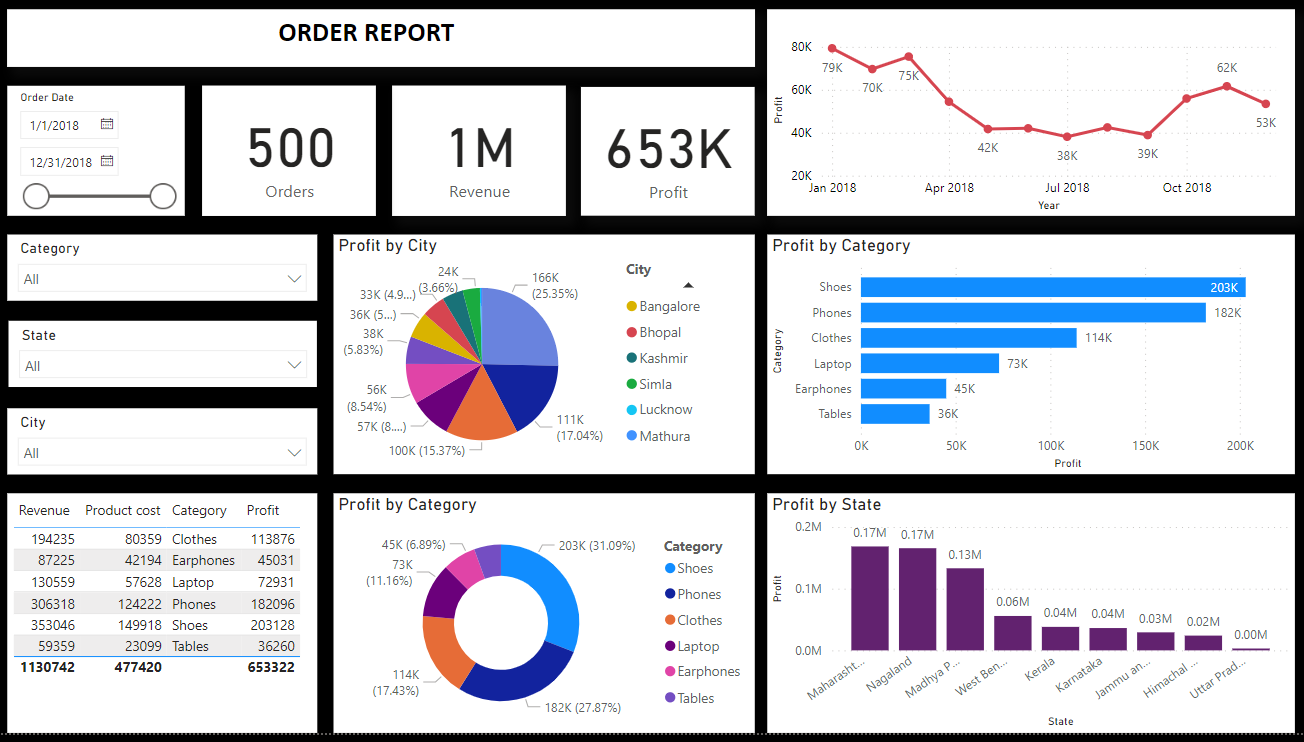

The page's visual inventory and layout, read from the dashboard file:
{"tool":"powerbi","page":{"name":"Page 1","canvas":[1280,720],"ordinal":0},"visuals":[{"type":"textbox","box":[11,12.3,731.4,56.3],"z":0},{"type":"card","fields":{"Values":["Sum(Orders.order_total)"]},"box":[387.5,86.8,169.9,127.1],"z":1},{"type":"card","fields":{"Values":["Sum(Orders.Profit)"]},"box":[572.1,88,169.9,125.9],"z":2},{"type":"card","fields":{"Values":["CountNonNull(Orders.Order ID)"]},"box":[201.7,86.8,169.9,127.1],"z":3},{"type":"lineChart","fields":{"Category":["Orders.Order Date.Variation.Date Hierarchy.Year","Orders.Order Date.Variation.Date Hierarchy.Month"],"Y":["Sum(Orders.Profit)"]},"box":[754.7,12.3,516,201.7],"z":4},{"type":"clusteredBarChart","fields":{"Category":["Orders.Category"],"Y":["Sum(Orders.Profit)"]},"box":[754.7,231.9,516,234.6],"z":5},{"type":"columnChart","fields":{"Category":["Orders.State"],"Y":["Sum(Orders.Profit)"]},"box":[754.7,485.8,516,234.6],"z":6},{"type":"pieChart","fields":{"Y":["Sum(Orders.Profit)"],"Category":["Orders.City"]},"box":[330.1,232.3,412,234.7],"z":7},{"type":"donutChart","fields":{"Y":["Sum(Orders.Profit)"],"Category":["Orders.Category"]},"box":[330.1,485.3,412,234.7],"z":8},{"type":"tableEx","fields":{"Values":["Sum(Orders.order_total)","Sum(Orders.Product cost)","Orders.Category","Sum(Orders.Profit)"]},"box":[11,485.3,303.2,234.7],"z":9},{"type":"slicer","fields":{"Values":["Orders.Category"]},"box":[11,232.3,303.2,64.8],"z":10},{"type":"slicer","fields":{"Values":["Orders.Order Date"]},"box":[11,86.8,173.6,127.1],"z":11},{"type":"slicer","fields":{"Values":["Orders.State"]},"box":[12.2,316.6,301.9,64.8],"z":12},{"type":"slicer","fields":{"Values":["Orders.City"]},"box":[11,402.2,303.2,64.8],"z":13}]}

Visuals, with their boxes in screenshot pixels (x1, y1, x2, y2), scaled from the page's 1280x720 canvas onto the 1304x742 screenshot:
textbox: <region>11, 13, 756, 71</region>
card - Sum(Orders.order_total): <region>395, 89, 568, 220</region>
card - Sum(Orders.Profit): <region>583, 91, 756, 220</region>
card - CountNonNull(Orders.Order ID): <region>205, 89, 379, 220</region>
lineChart - Orders.Order Date.Variation.Date Hierarchy.Year x Orders.Order Date.Variation.Date Hierarchy.Month: <region>769, 13, 1295, 221</region>
clusteredBarChart - Orders.Category x Sum(Orders.Profit): <region>769, 239, 1295, 481</region>
columnChart - Orders.State x Sum(Orders.Profit): <region>769, 501, 1295, 741</region>
pieChart - Sum(Orders.Profit) x Orders.City: <region>336, 239, 756, 481</region>
donutChart - Sum(Orders.Profit) x Orders.Category: <region>336, 500, 756, 741</region>
tableEx - Sum(Orders.order_total) x Sum(Orders.Product cost): <region>11, 500, 320, 741</region>
slicer - Orders.Category: <region>11, 239, 320, 306</region>
slicer - Orders.Order Date: <region>11, 89, 188, 220</region>
slicer - Orders.State: <region>12, 326, 320, 393</region>
slicer - Orders.City: <region>11, 414, 320, 481</region>
